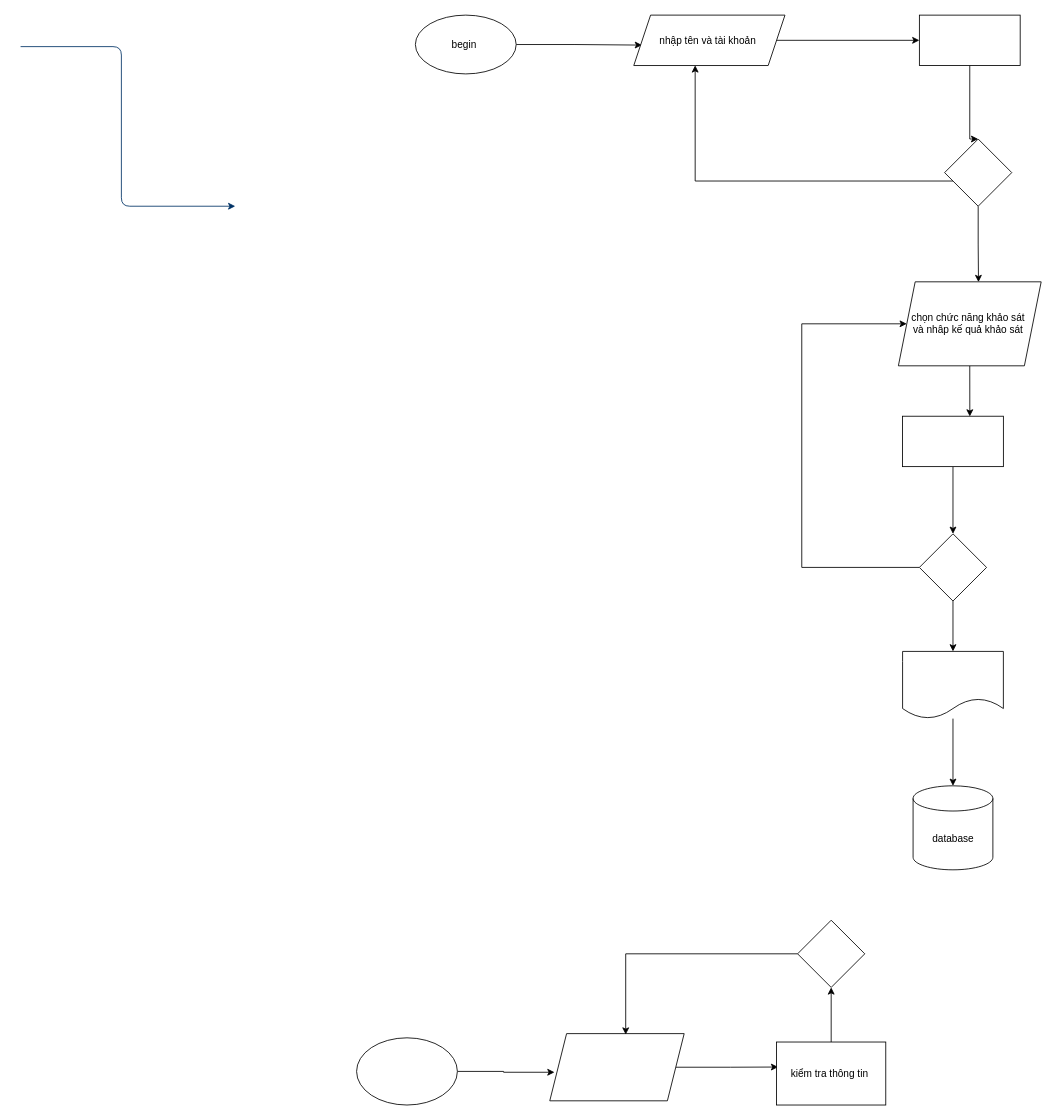
The diagram is 1056 pixels wide and 1120 high, and some of its shapes have lost their labels. The shapes that lost their labels are listed below. From the top down, each one's centre as x and y in pixels, then its label:
At (969,40): "kiểm tra đăng nhập".
At (952,441): "kiểm tra dữ liệu".
At (616,1067): "nhập thông tin tài khoản".
